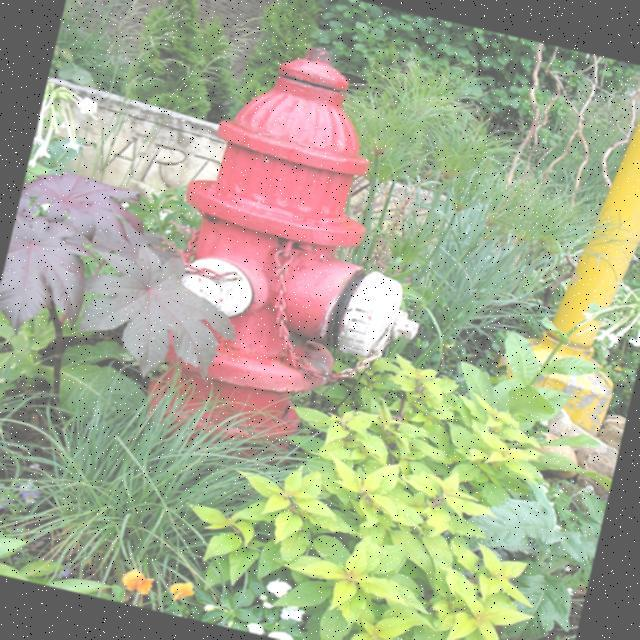fire_hydrant: (129, 27, 482, 474)
